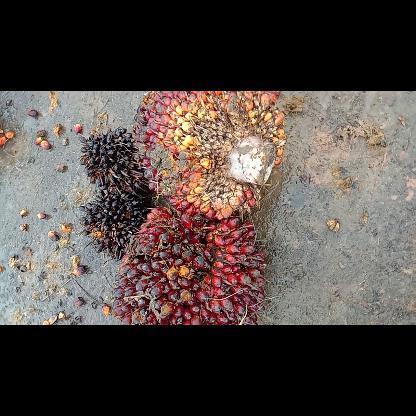TBS abnormal: (76, 125, 158, 197), (78, 186, 150, 260)
TBS masak: (130, 92, 289, 222), (112, 204, 270, 324)
